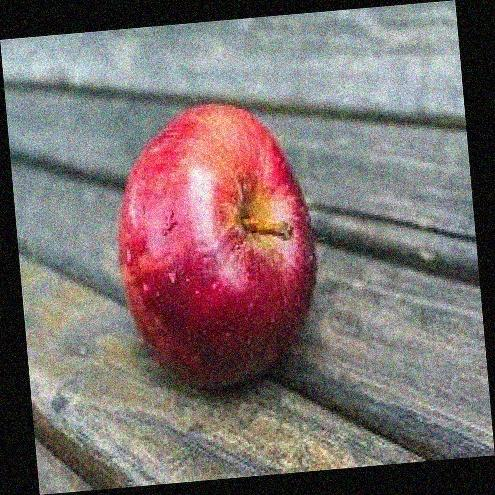red apple: (116, 97, 315, 391)
